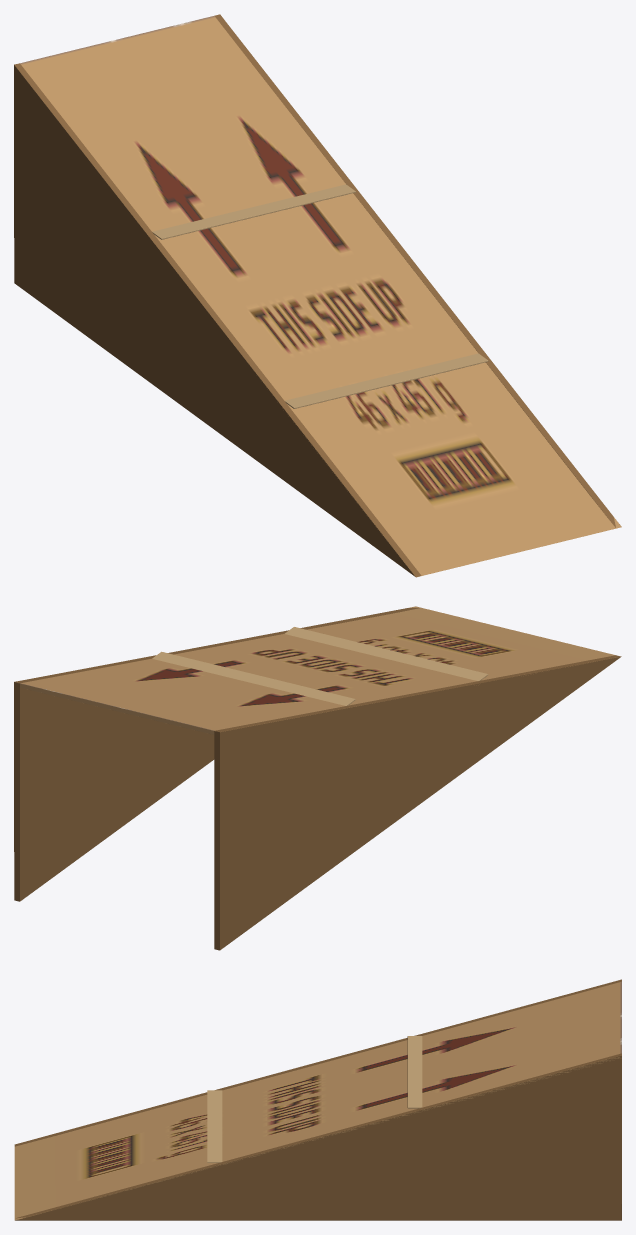
Rendered from water_ramp.glb.
3 renders of one model, top to bottom at view 1: azimuth 30°, elevation 25°; view 2: azimuth 150°, elevation 25°; view 3: azimuth 270°, elevation 25°, orthographic. The views are drawn at different scales.
Visible parts, largest first — view 1: water_ramp; view 2: water_ramp; view 3: water_ramp.
Boxes of the visible parts, box(x1,y1,x2,y2) form: water_ramp: box(14, 14, 621, 577); water_ramp: box(14, 606, 621, 950); water_ramp: box(14, 979, 621, 1220).
Bounding box in the file's own units: 3.55 × 3.6 × 12.01.
Materials: 4 (1 with a texture image).
